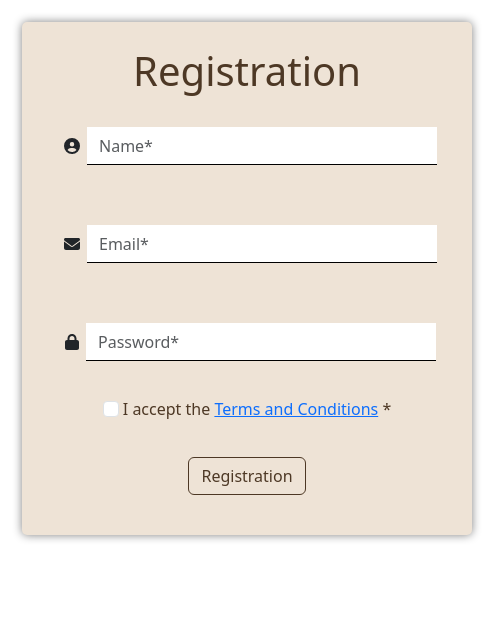
Test: Form checks › Name input field › Should get an errormessage when name input is empty, both email and password fields are filled correctly and button is clicked
The width and height of the screenshot is (495, 625).
Type "example@example.com" into the field with placeholder "Email*" at (262,244), box [87,225,437,263]
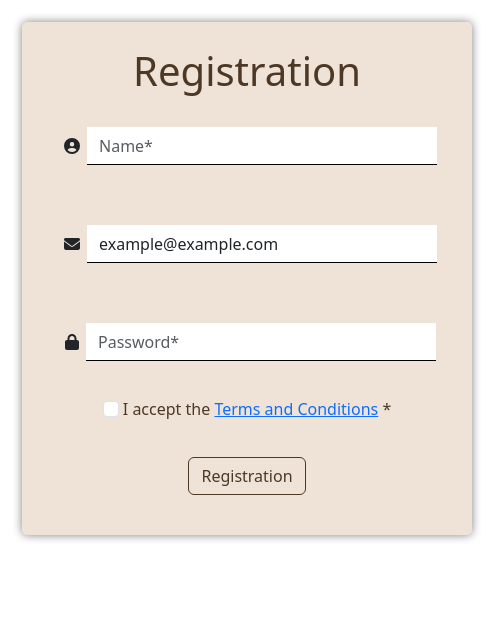
Type "12345678" into the password field with placeholder "Password*" at (261,342), box [86,323,436,361]
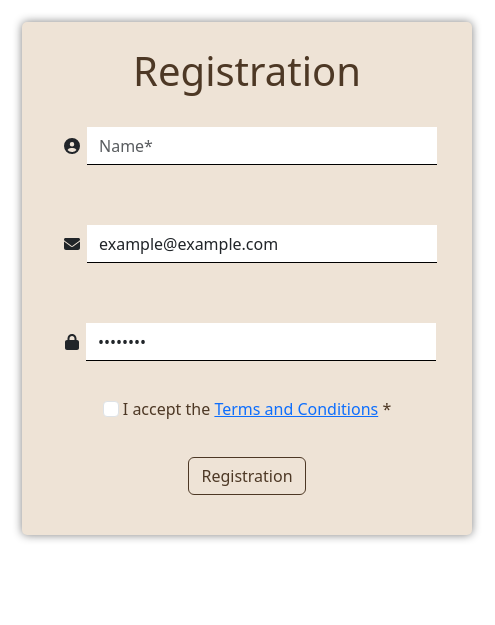
Click the button "Registration" at (247,476), box [188,457,306,495]
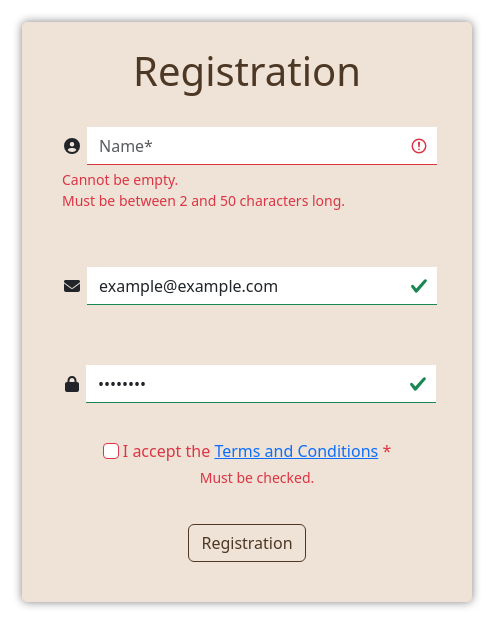
Result: the list item "Cannot be empty." is shown at [62,170,178,189]
